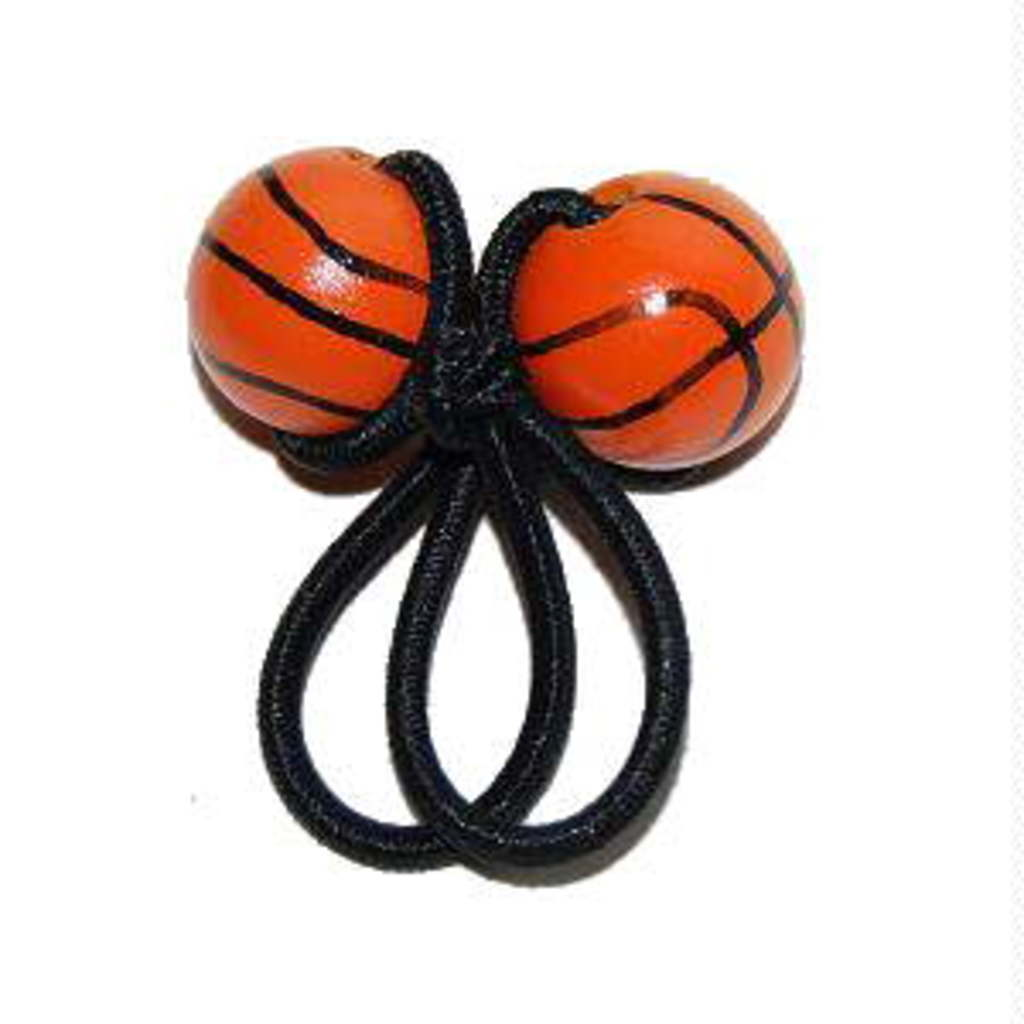Ball: (509, 167, 802, 471), (184, 147, 427, 433)
